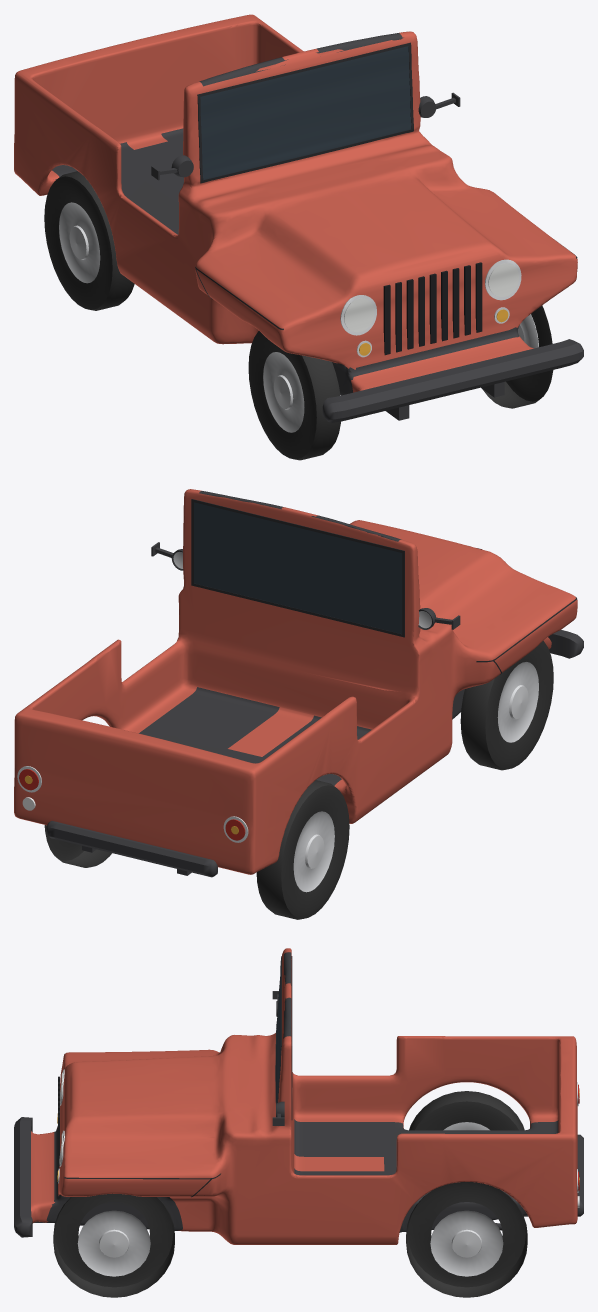
The model's file is jeep.glb.
3 views of the same model, one above another, from view 1: azimuth 30°, elevation 25°; view 2: azimuth 150°, elevation 25°; view 3: azimuth 270°, elevation 25° (orthographic). The views are drawn at different scales.
Visible parts, largest first — view 1: paint, glass, trim, wheel_fr, wheel_rr, wheel_fl, headlights, mirrors; view 2: paint, glass, wheel_rr, wheel_fr, trim, wheel_rl, mirrors, taillights; view 3: paint, wheel_rl, wheel_fl, trim, wheel_rr, glass.
Part boxes in pixels (bbox=[...]): paint: bbox=[14, 14, 577, 395]; glass: bbox=[200, 46, 411, 179]; trim: bbox=[195, 42, 583, 422]; wheel_fr: bbox=[248, 331, 340, 460]; wheel_rr: bbox=[44, 171, 134, 310]; wheel_fl: bbox=[482, 305, 553, 408]; headlights: bbox=[344, 263, 518, 332]; mirrors: bbox=[151, 92, 460, 180]; paint: bbox=[14, 489, 577, 874]; glass: bbox=[194, 502, 402, 633]; wheel_rr: bbox=[256, 780, 349, 919]; wheel_fr: bbox=[460, 640, 553, 770]; trim: bbox=[17, 499, 583, 877]; wheel_rl: bbox=[44, 825, 111, 867]; mirrors: bbox=[151, 542, 460, 629]; taillights: bbox=[19, 769, 245, 840]; paint: bbox=[31, 948, 577, 1244]; wheel_rl: bbox=[406, 1182, 527, 1297]; wheel_fl: bbox=[53, 1193, 174, 1297]; trim: bbox=[14, 956, 583, 1237]; wheel_rr: bbox=[409, 1091, 524, 1130]; glass: bbox=[275, 966, 280, 1103].
Bounding box in the file's own units: 1.76 × 1.67 × 3.32.
